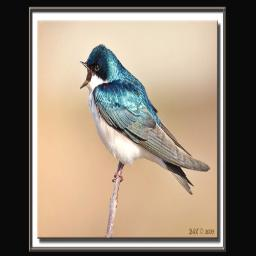Swallow: (77, 41, 211, 198)
